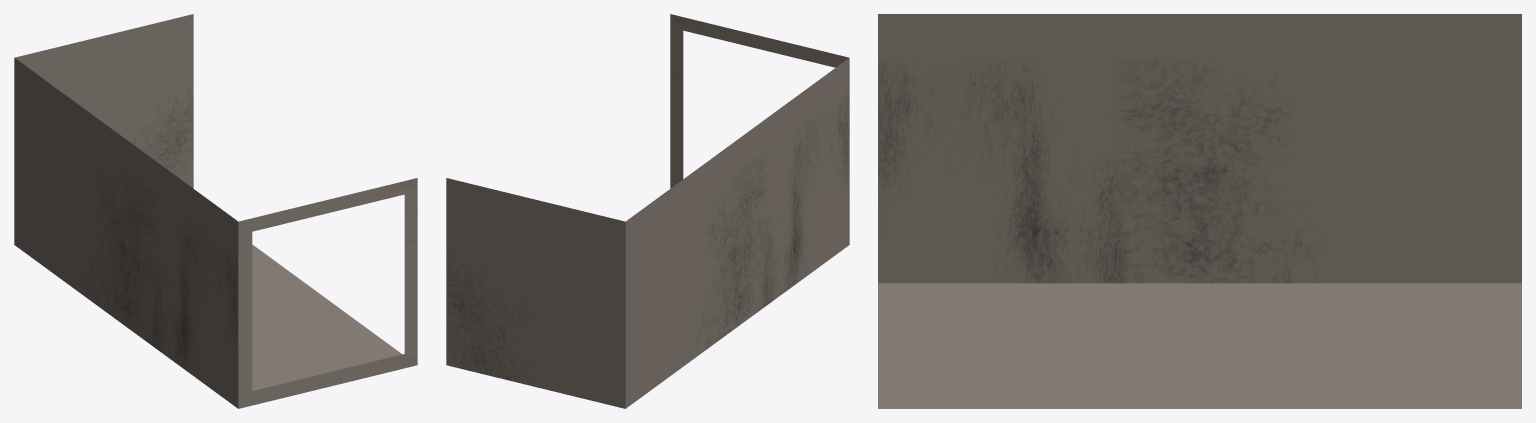
Rendered from controll room texture.fbx.
3 views of the same model, side by side, from view 1: azimuth 30°, elevation 25°; view 2: azimuth 150°, elevation 25°; view 3: azimuth 270°, elevation 25° (orthographic). The views are drawn at different scales.
Visible parts, largest first — view 1: room_2; view 2: room_2; view 3: room_2.
Part boxes in pixels (<box>): room_2: <box>14,14,417,408</box>; room_2: <box>446,14,849,408</box>; room_2: <box>878,14,1521,408</box>.
Size of the model in its own units: 20 by 20 by 43.33.
